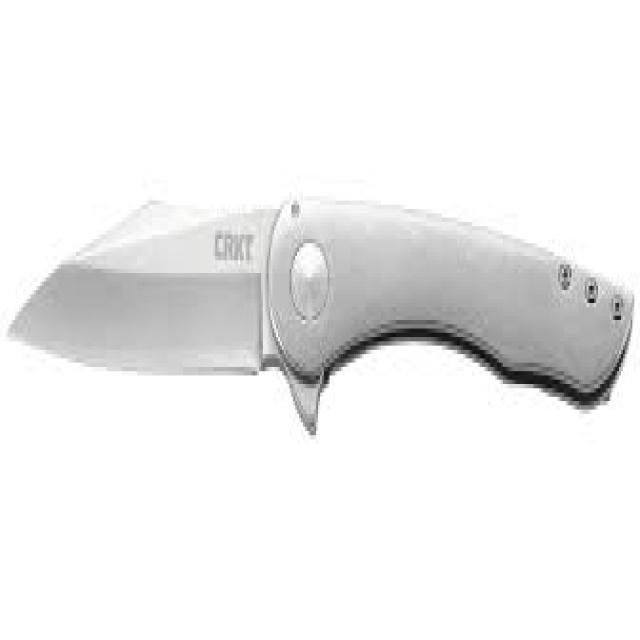knife: (4, 172, 637, 444)
